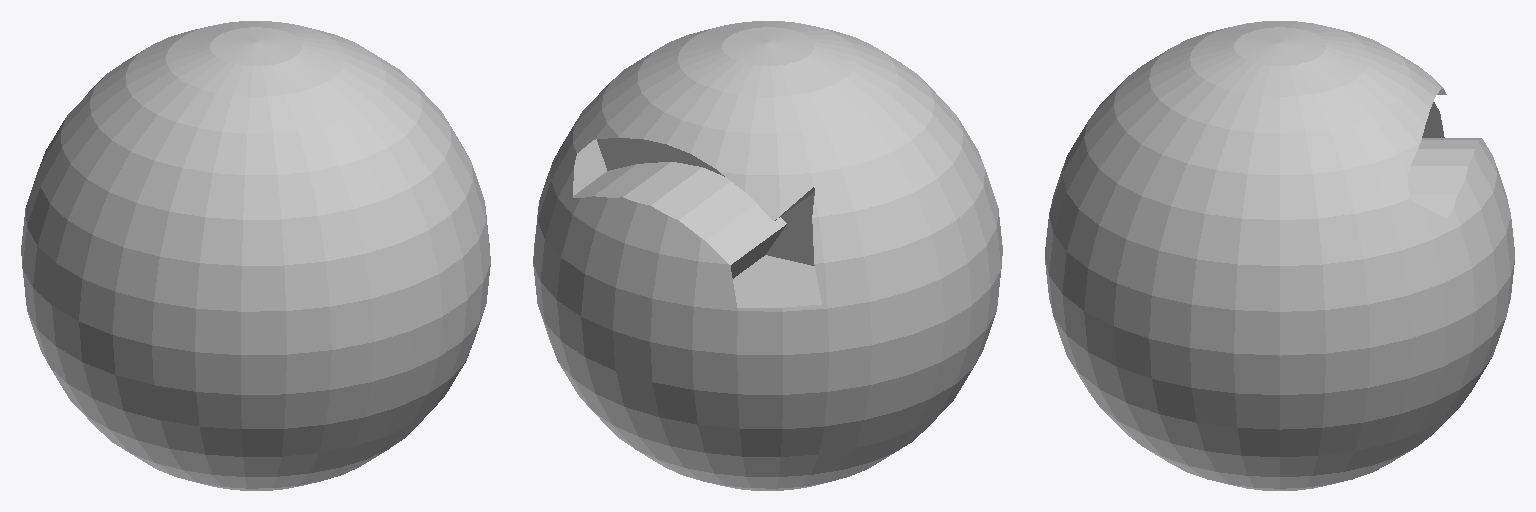
The model's file is Ball.obj.
3 views of the same model, side by side, from view 1: azimuth 30°, elevation 25°; view 2: azimuth 150°, elevation 25°; view 3: azimuth 270°, elevation 25° (orthographic).
Visible parts, largest first — view 1: Sphere_Sphere.001; view 2: Sphere_Sphere.001; view 3: Sphere_Sphere.001.
Part boxes in pixels (left/top/right/bottom): Sphere_Sphere.001: left=21, top=21, right=490, bottom=490; Sphere_Sphere.001: left=533, top=21, right=1002, bottom=490; Sphere_Sphere.001: left=1045, top=21, right=1514, bottom=490.
Size of the model in its own units: 0.32 by 0.32 by 0.32.